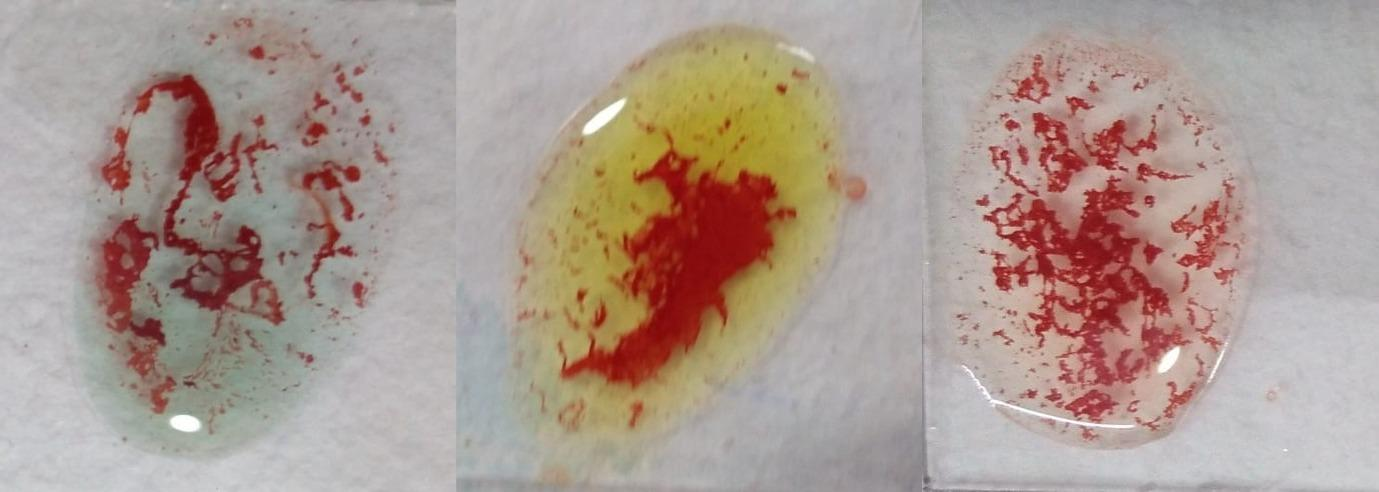A: (76, 16, 374, 453)
B: (519, 30, 834, 445)
D: (939, 35, 1253, 449)
